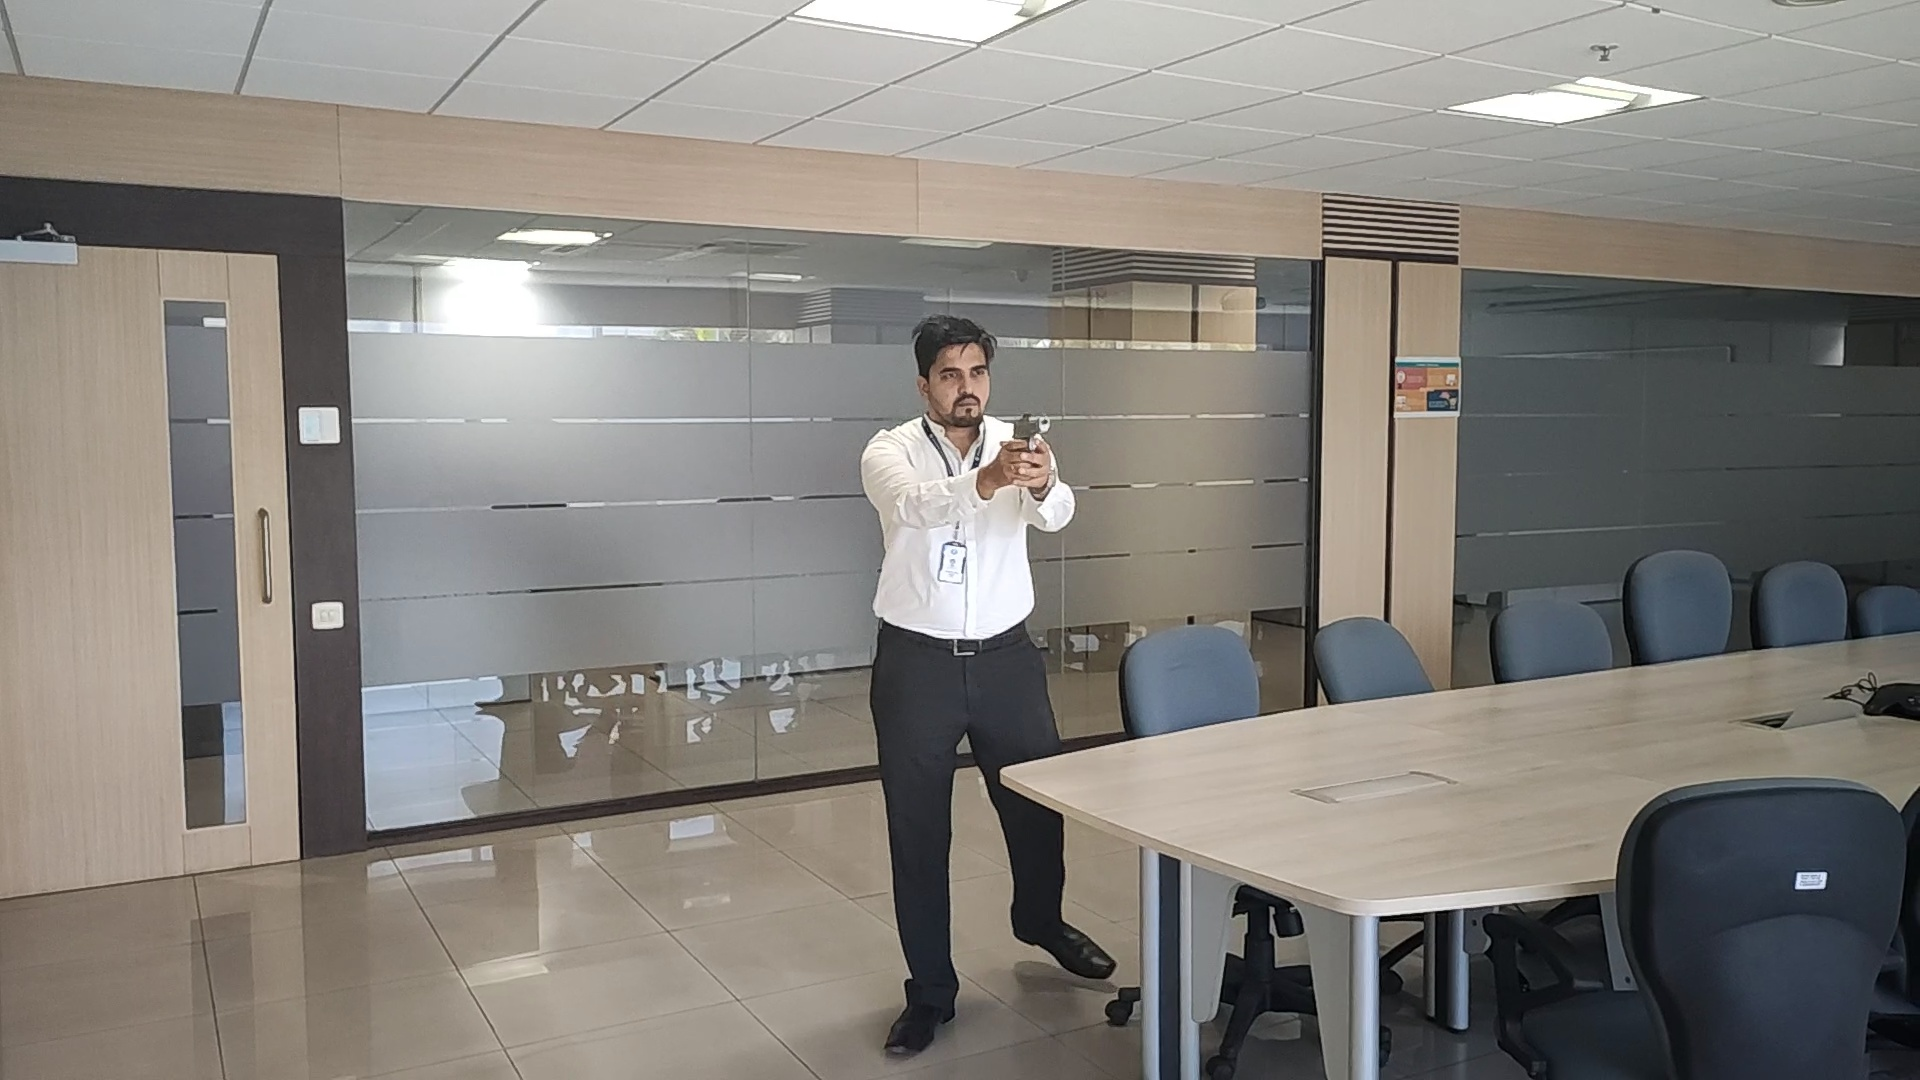gun: (1011, 411, 1054, 454)
